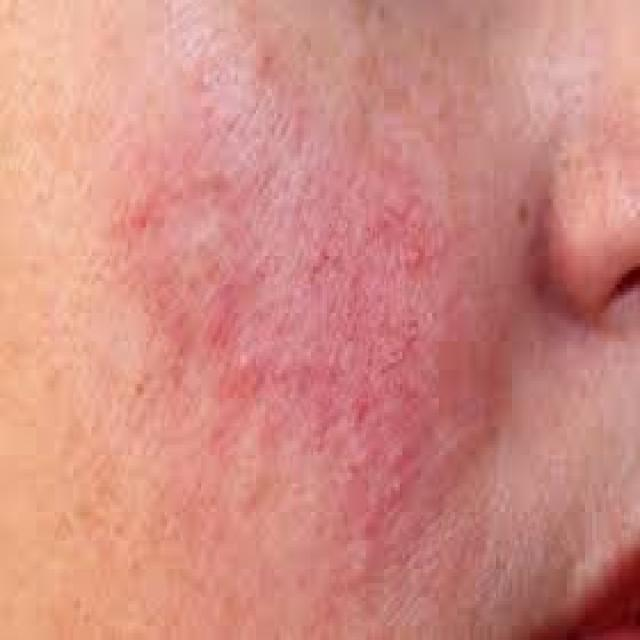Rosacea: (117, 45, 453, 543)
